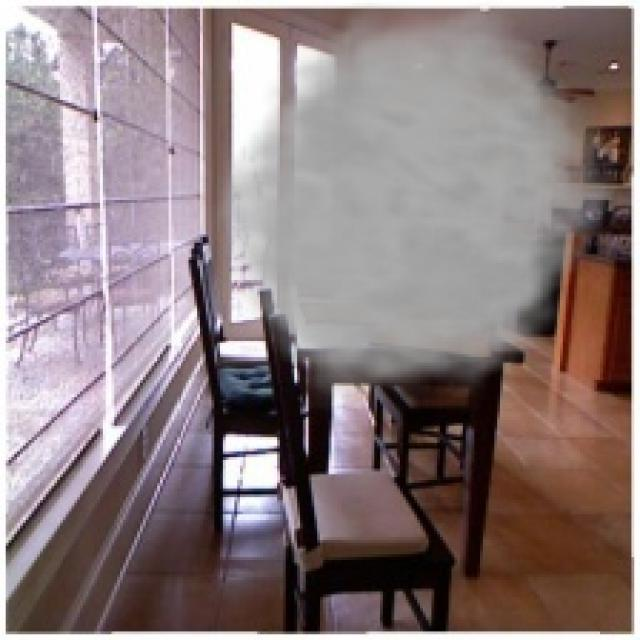Smoke: (202, 2, 628, 414)
